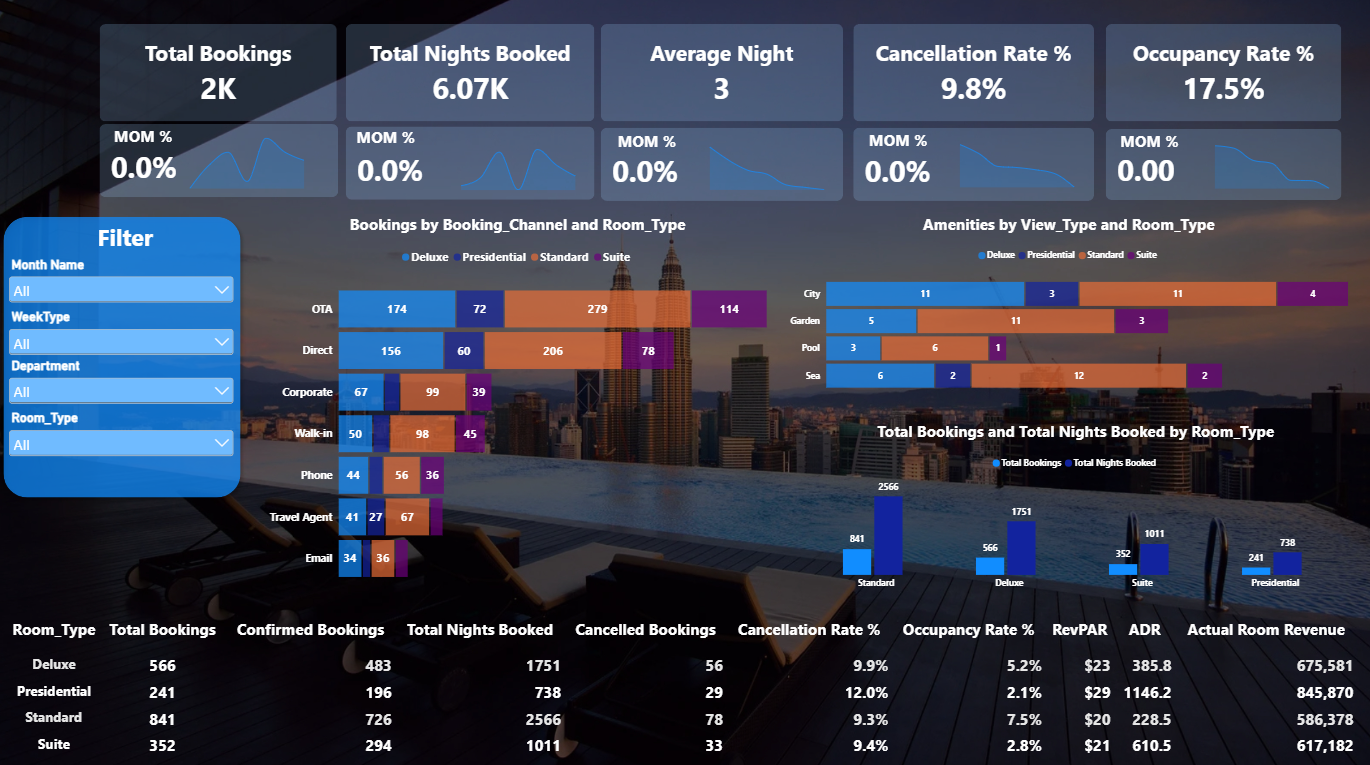

Layout of this report page (visuals, bound fields, positions):
{"tool":"powerbi","page":{"name":"Rooms & Occupancy Intelligence","canvas":[1920,1080],"ordinal":2},"visuals":[{"type":"cardVisual","fields":{"Data":["measure.Average Length of Stay"]},"box":[842.9,34.2,338.6,136.9],"z":0},{"type":"cardVisual","fields":{"Data":["measure.Cancellation Rate %"]},"box":[1194.1,34.2,336.8,136.9],"z":1000},{"type":"cardVisual","fields":{"Data":["measure.Total Bookings"]},"box":[142.3,34.2,331.4,136],"z":2000},{"type":"cardVisual","fields":{"Data":["measure.Occupancy Rate %"]},"box":[1547.2,34.2,329.7,136],"z":3000},{"type":"clusteredColumnChart","fields":{"Category":["Rooms(2).Room_Type"],"Y":["measure.Total Bookings","measure.Total Nights Booked"]},"box":[1090.1,573.8,830.2,270.3],"z":4000},{"type":"barChart","fields":{"Category":["Rooms.View_Type"],"Series":["R-M.Room_Type"],"Y":["CountNonNull(Rooms.Amenities)"]},"box":[1090.1,284.3,811,289.5],"z":5000},{"type":"pivotTable","fields":{"Rows":["Reservations.Room_Type"],"Values":["measure.Total Bookings","measure.Confirmed Bookings","measure.Total Nights Booked","measure.Cancelled Bookings","measure.Cancellation Rate %","measure.Occupancy Rate %","measure.RevPAR","measure.ADR","measure.Actual Room Revenue"]},"box":[0,845.9,1920,235],"z":6000},{"type":"cardVisual","fields":{"Data":["measure.Total Bookings MoM %"]},"box":[142.3,174.7,333.2,102.7],"z":7000},{"type":"cardVisual","fields":{"Data":["measure.Total Nights Booked"]},"box":[486.3,34.2,347.1,136],"z":8000},{"type":"textbox","box":[135.2,176.5,136,40.1],"z":9000},{"type":"lineChart","fields":{"Category":["Dim_Date.Day Name"],"Y":["measure.Total Bookings"]},"box":[242.4,170.9,212.8,109.9],"z":10000},{"type":"cardVisual","fields":{"Data":["measure.Total Nights MoM %"]},"box":[486.3,178.3,347.6,102.7],"z":11000},{"type":"textbox","box":[474.4,177.9,136,40.1],"z":12000},{"type":"cardVisual","fields":{"Data":["measure.ALOS MoM %"]},"box":[842.4,179.7,338.4,102.9],"z":13000},{"type":"textbox","box":[839.2,182.3,136,40.1],"z":14000},{"type":"cardVisual","fields":{"Data":["measure.RevPAR MoM %"]},"box":[1194.8,179.7,336.6,102.9],"z":15000},{"type":"textbox","box":[1189.1,180.9,136,40.1],"z":16000},{"type":"cardVisual","fields":{"Data":["measure.GOP Margin MoM %"]},"box":[1547.1,181.4,329.7,99.4],"z":17000},{"type":"lineChart","fields":{"Category":["Dim_Date.Day Name"],"Y":["measure.Total Nights Booked"]},"box":[620.9,186.6,212.8,95.9],"z":18000},{"type":"lineChart","fields":{"Category":["Dim_Date.Day Name"],"Y":["measure.ADR"]},"box":[1316.9,179.7,212.8,99.4],"z":19000},{"type":"lineChart","fields":{"Category":["Dim_Date.Day Name"],"Y":["measure.Average Night"]},"box":[968,183.1,212.8,99.4],"z":20000},{"type":"textbox","box":[1540.9,182.6,136,40.1],"z":21000},{"type":"lineChart","fields":{"Category":["Dim_Date.Day Name"],"Y":["measure.Occupancy Rate %"]},"box":[1672.6,181.1,212.8,99.4],"z":22000},{"type":"barChart","fields":{"Category":["Reservations.Booking_Channel"],"Series":["Rooms(2).Room_Type"],"Y":["measure.Total Bookings"]},"box":[362.8,284.3,727.3,561.6],"z":23000},{"type":"shape","title":"Filter","box":[0,294.8,348.8,409.9],"z":24000},{"type":"textbox","box":[99.4,310.5,158.7,48.8],"z":25000},{"type":"slicer","fields":{"Values":["Dim_Date.Month Name"]},"box":[12.2,359.3,322.7,73.3],"z":26000},{"type":"slicer","fields":{"Values":["Dim_Date.WeekType"]},"box":[12.2,432.6,322.7,73.3],"z":27000},{"type":"slicer","fields":{"Values":["Staff.Department"]},"box":[12.2,500.6,322.7,73.3],"z":28000},{"type":"slicer","fields":{"Values":["Reservations.Room_Type"]},"box":[12.2,573.8,322.7,73.3],"z":29000}]}

Visuals, with their boxes in screenshot pixels (x1, y1, x2, y2), scaled from the page's 1920x1080 canvas onto the 1370x765 screenshot:
cardVisual - measure.Average Length of Stay: (left=601, top=24, right=843, bottom=121)
cardVisual - measure.Cancellation Rate %: (left=852, top=24, right=1092, bottom=121)
cardVisual - measure.Total Bookings: (left=102, top=24, right=338, bottom=121)
cardVisual - measure.Occupancy Rate %: (left=1104, top=24, right=1339, bottom=121)
clusteredColumnChart - Rooms(2).Room_Type x measure.Total Bookings: (left=778, top=406, right=1369, bottom=598)
barChart - Rooms.View_Type x R-M.Room_Type: (left=778, top=201, right=1357, bottom=406)
pivotTable - Reservations.Room_Type x measure.Total Bookings: (left=0, top=599, right=1369, bottom=764)
cardVisual - measure.Total Bookings MoM %: (left=102, top=124, right=339, bottom=196)
cardVisual - measure.Total Nights Booked: (left=347, top=24, right=595, bottom=121)
textbox: (left=96, top=125, right=194, bottom=153)
lineChart - Dim_Date.Day Name x measure.Total Bookings: (left=173, top=121, right=325, bottom=199)
cardVisual - measure.Total Nights MoM %: (left=347, top=126, right=595, bottom=199)
textbox: (left=339, top=126, right=436, bottom=154)
cardVisual - measure.ALOS MoM %: (left=601, top=127, right=843, bottom=200)
textbox: (left=599, top=129, right=696, bottom=158)
cardVisual - measure.RevPAR MoM %: (left=853, top=127, right=1093, bottom=200)
textbox: (left=848, top=128, right=946, bottom=157)
cardVisual - measure.GOP Margin MoM %: (left=1104, top=128, right=1339, bottom=199)
lineChart - Dim_Date.Day Name x measure.Total Nights Booked: (left=443, top=132, right=595, bottom=200)
lineChart - Dim_Date.Day Name x measure.ADR: (left=940, top=127, right=1092, bottom=198)
lineChart - Dim_Date.Day Name x measure.Average Night: (left=691, top=130, right=843, bottom=200)
textbox: (left=1099, top=129, right=1197, bottom=158)
lineChart - Dim_Date.Day Name x measure.Occupancy Rate %: (left=1193, top=128, right=1345, bottom=199)
barChart - Reservations.Booking_Channel x Rooms(2).Room_Type: (left=259, top=201, right=778, bottom=599)
"Filter" shape: (left=0, top=209, right=249, bottom=499)
textbox: (left=71, top=220, right=184, bottom=255)
slicer - Dim_Date.Month Name: (left=9, top=255, right=239, bottom=306)
slicer - Dim_Date.WeekType: (left=9, top=306, right=239, bottom=358)
slicer - Staff.Department: (left=9, top=355, right=239, bottom=407)
slicer - Reservations.Room_Type: (left=9, top=406, right=239, bottom=458)
